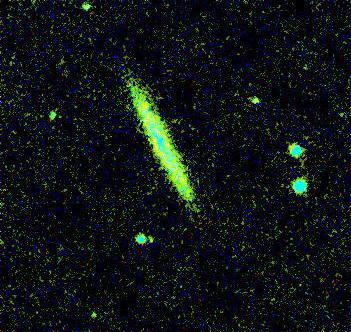star: (136, 229, 166, 259)
